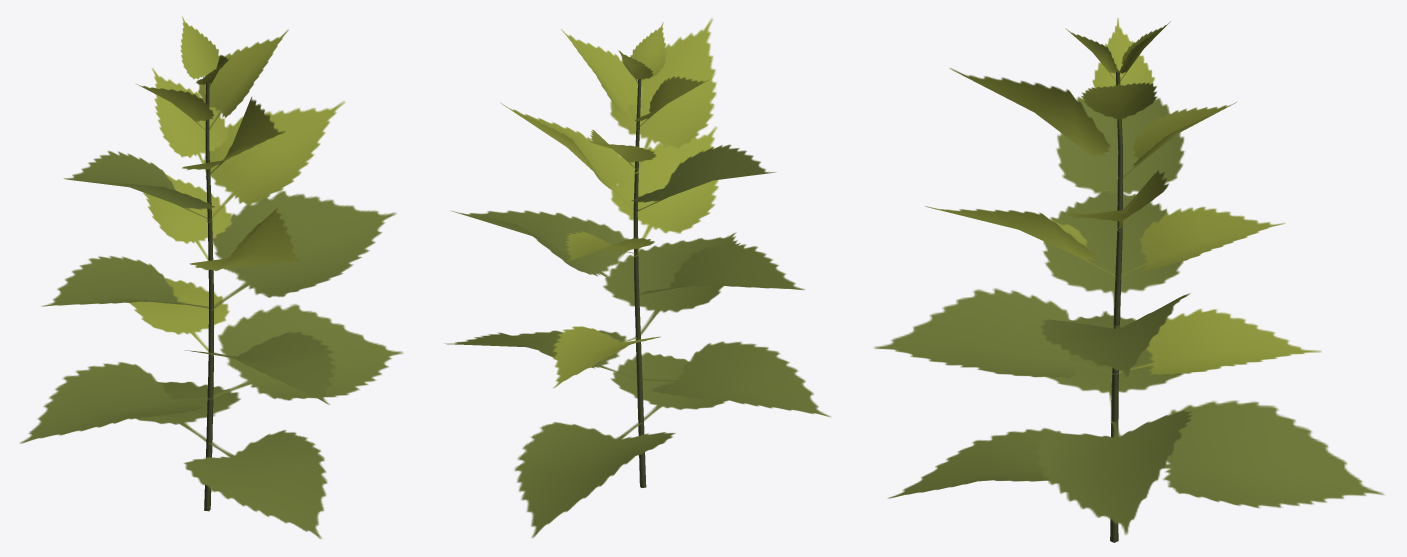
File: Stinging_Nettle_2.glb
3 renders of one model, left to right at view 1: azimuth 30°, elevation 25°; view 2: azimuth 150°, elevation 25°; view 3: azimuth 270°, elevation 25°, orthographic. The views are drawn at different scales.
Visible parts, largest first — view 1: Stinging_Nettle_2; view 2: Stinging_Nettle_2; view 3: Stinging_Nettle_2.
Boxes of the visible parts, box(x1,y1,x2,y2) form: Stinging_Nettle_2: box(20, 16, 403, 538); Stinging_Nettle_2: box(445, 18, 830, 537); Stinging_Nettle_2: box(874, 18, 1383, 542).
Size of the model in its own units: 0.7897 by 0.8856 by 0.8093.
1 material, 1 textured.
